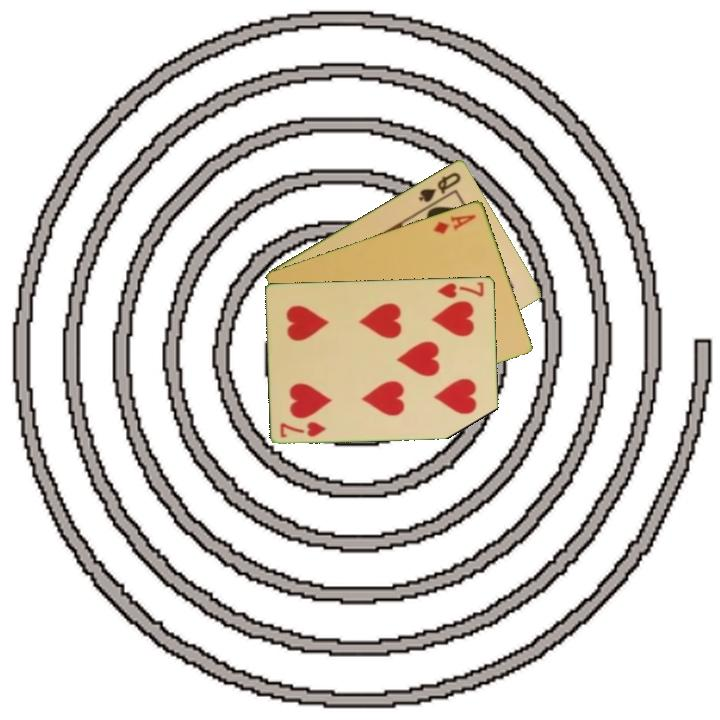7h: (434, 278, 487, 300), (277, 418, 329, 440)
Ad: (430, 210, 479, 237)
Qs: (415, 168, 464, 205)
